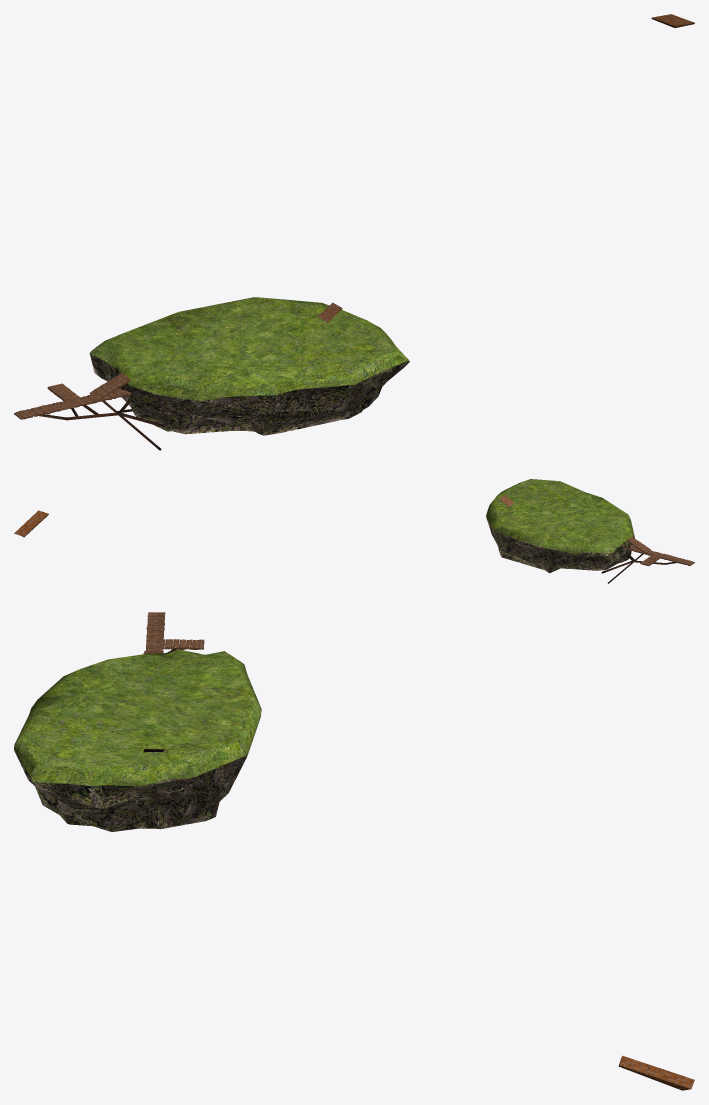
Rendered from ChinampaA.obj.
3 views of the same model, one above another, from view 1: azimuth 30°, elevation 25°; view 2: azimuth 150°, elevation 25°; view 3: azimuth 270°, elevation 25° (orthographic). The views are drawn at different scales.
Parts seen in each view (by area): view 1: defaultMaterial.006_Grass_2, defaultMaterial.007_Merchant_island1, defaultMaterial.013_Wood_texture_set, defaultMaterial.012_SupportBeam_texture_set; view 2: defaultMaterial.006_Grass_2, defaultMaterial.007_Merchant_island1, defaultMaterial.009_Platform_texture_set, defaultMaterial.013_Wood_texture_set, defaultMaterial.012_SupportBeam_texture_set; view 3: defaultMaterial.006_Grass_2, defaultMaterial.007_Merchant_island1, defaultMaterial.009_Platform_texture_set.
Part boxes in pixels (left/top/right/bottom): defaultMaterial.006_Grass_2: left=90, top=297, right=409, bottom=401; defaultMaterial.007_Merchant_island1: left=89, top=344, right=409, bottom=435; defaultMaterial.013_Wood_texture_set: left=14, top=388, right=131, bottom=419; defaultMaterial.012_SupportBeam_texture_set: left=39, top=399, right=163, bottom=450; defaultMaterial.006_Grass_2: left=486, top=479, right=633, bottom=554; defaultMaterial.007_Merchant_island1: left=486, top=517, right=634, bottom=573; defaultMaterial.009_Platform_texture_set: left=14, top=494, right=513, bottom=537; defaultMaterial.013_Wood_texture_set: left=628, top=545, right=694, bottom=565; defaultMaterial.012_SupportBeam_texture_set: left=601, top=553, right=676, bottom=583; defaultMaterial.006_Grass_2: left=14, top=649, right=261, bottom=786; defaultMaterial.007_Merchant_island1: left=14, top=663, right=260, bottom=831; defaultMaterial.009_Platform_texture_set: left=143, top=748, right=694, bottom=1090.
Bounding box in the file's own units: 283 × 30.95 × 168.
5 materials, 5 textured.
